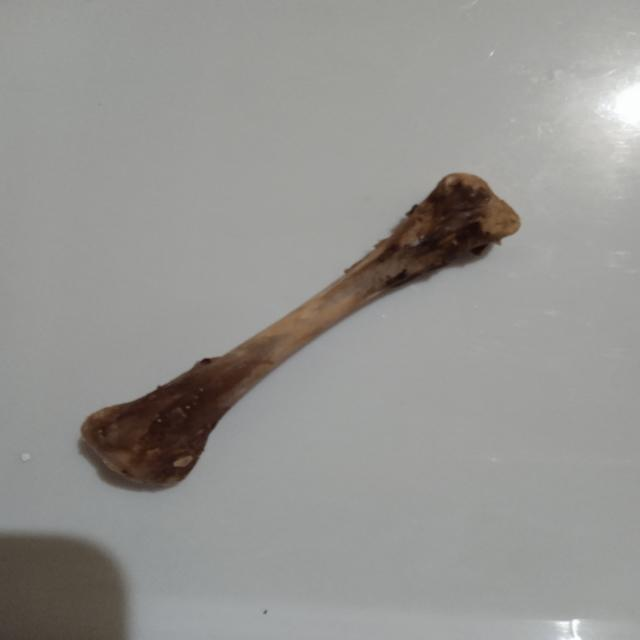bone: (72, 164, 544, 493)
